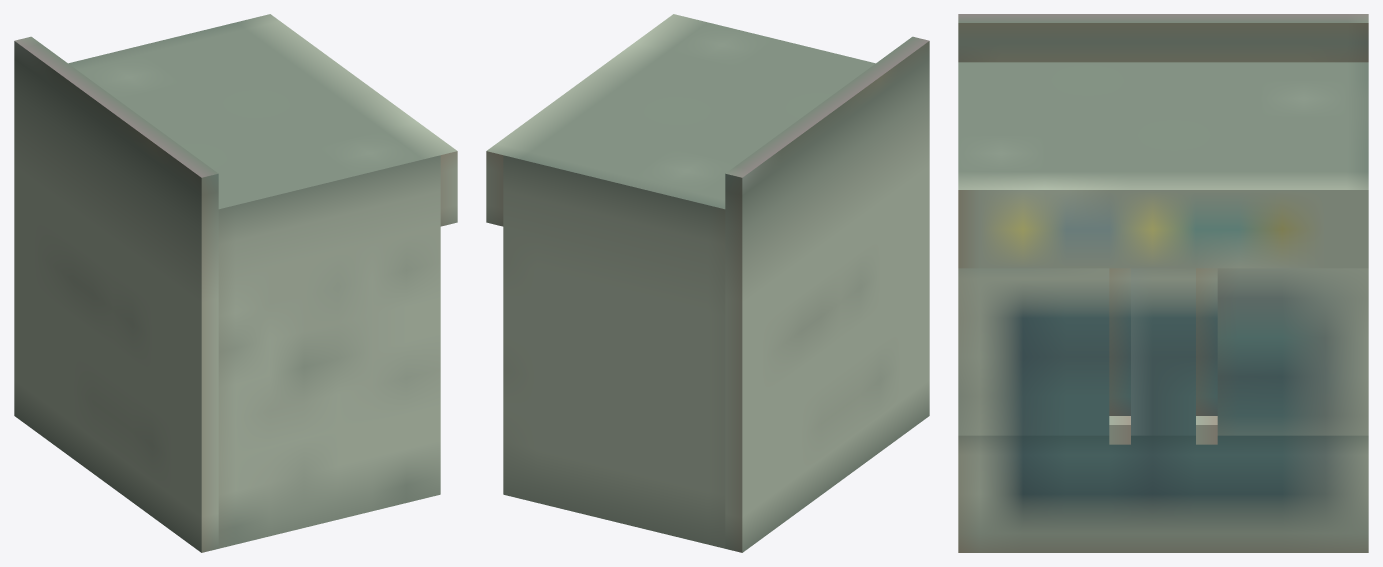
The model's file is CountertopCabinetGreen_01.fbx.
3 views of the same model, side by side, from view 1: azimuth 30°, elevation 25°; view 2: azimuth 150°, elevation 25°; view 3: azimuth 270°, elevation 25° (orthographic). The views are drawn at different scales.
Visible parts, largest first — view 1: CountertopCabinetGreen_01; view 2: CountertopCabinetGreen_01; view 3: CountertopCabinetGreen_01.
Part boxes in pixels (x1,y1,x2,y2): CountertopCabinetGreen_01: (14, 14, 457, 552); CountertopCabinetGreen_01: (486, 14, 929, 552); CountertopCabinetGreen_01: (958, 14, 1368, 552).
Bounding box in the file's own units: 75 × 95 × 105.
Materials: 1 (1 with a texture image).
